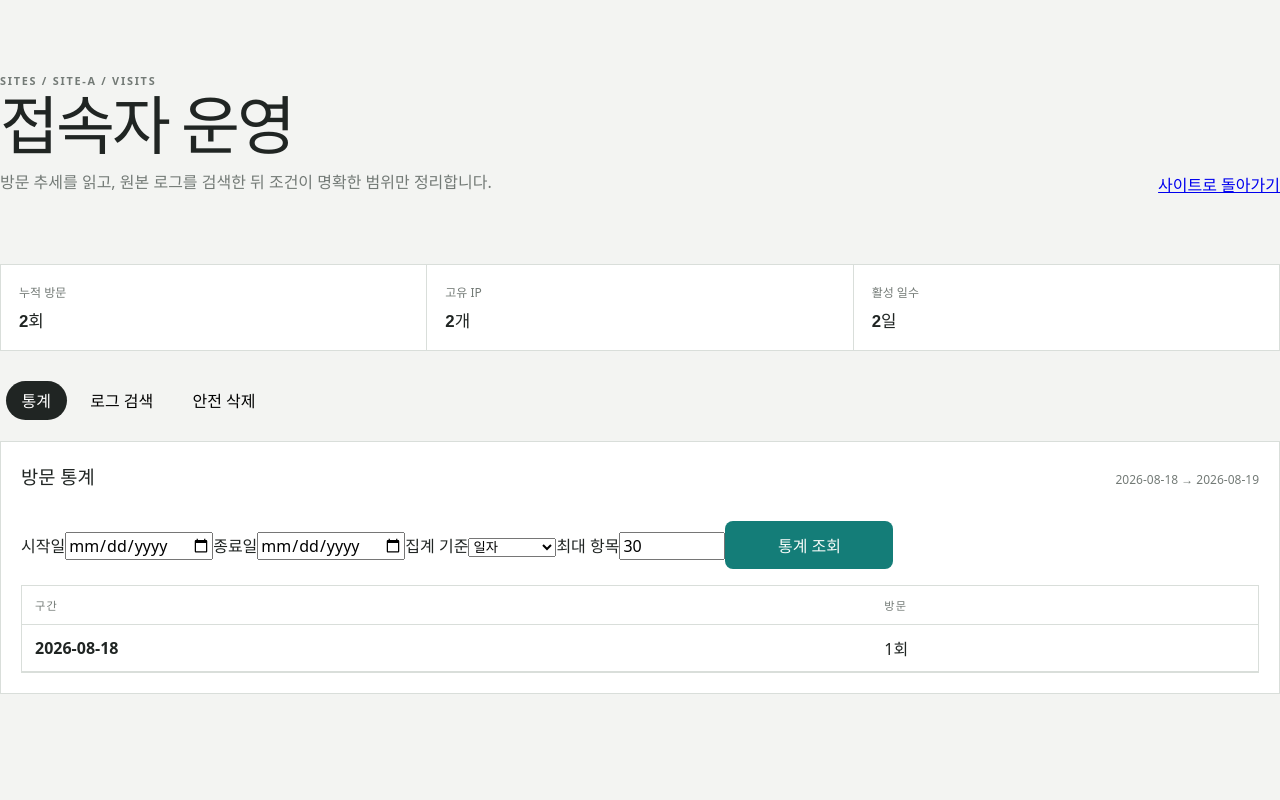
Test case: AdminVisitsPage › requires visible conditions and confirmation before destructive readback
The image size is (1280, 800).
Check: the text "2026-08-18" is shown, box [35,637,118,659]
Click the button "안전 삭제": click(224, 400) [176,381,272,420]
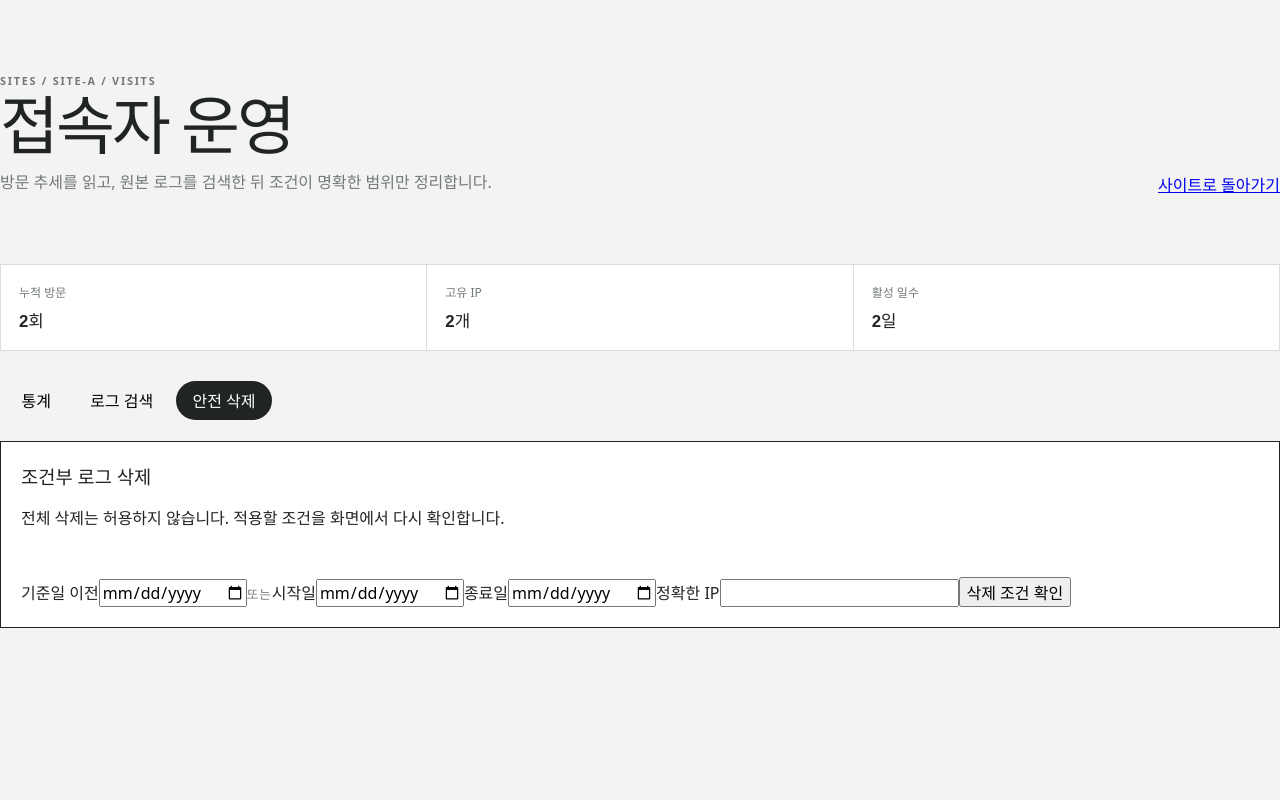
Click the button "삭제 조건 확인": click(1015, 592) [958,577,1071,607]
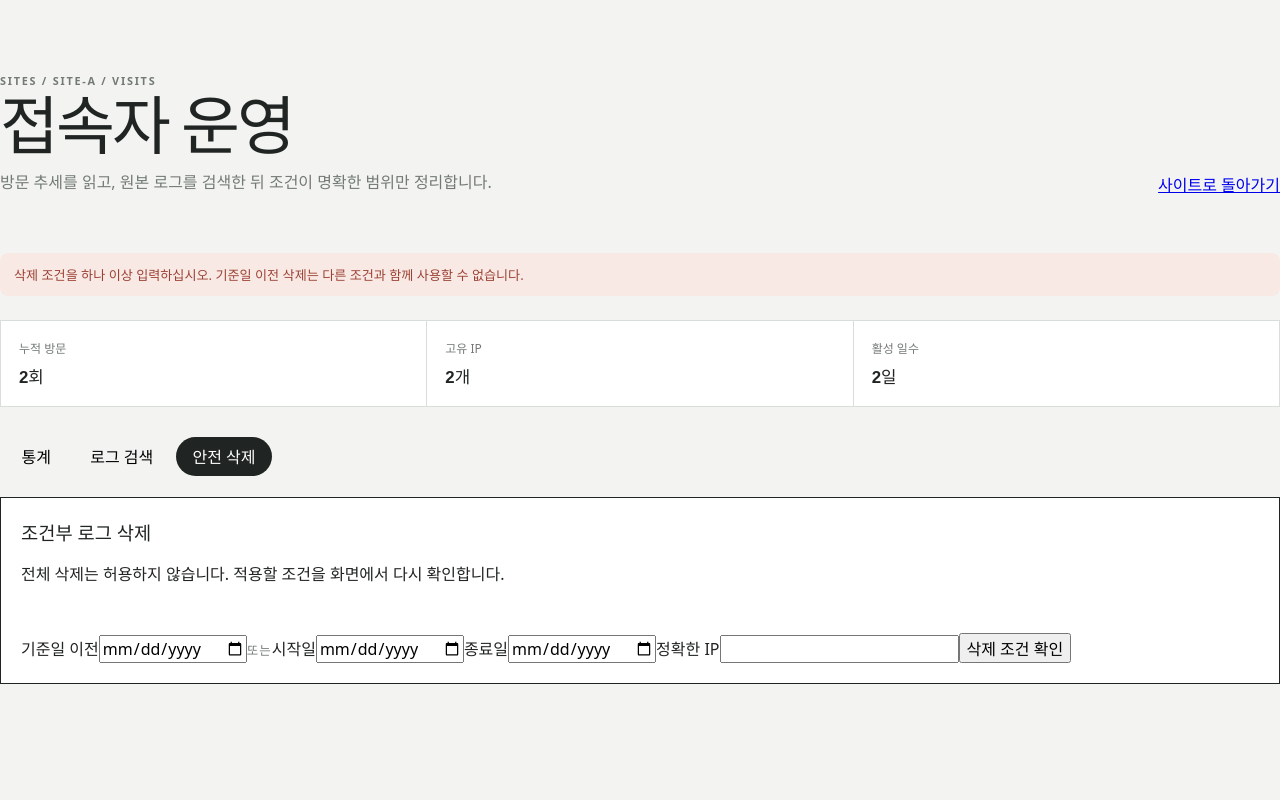
Check: the message shows "삭제 조건을 하나 이상", box [14,266,524,284]
In the date field labelled "기준일 이전": (173, 650) [99,636,247,664], type "2026-08-19"
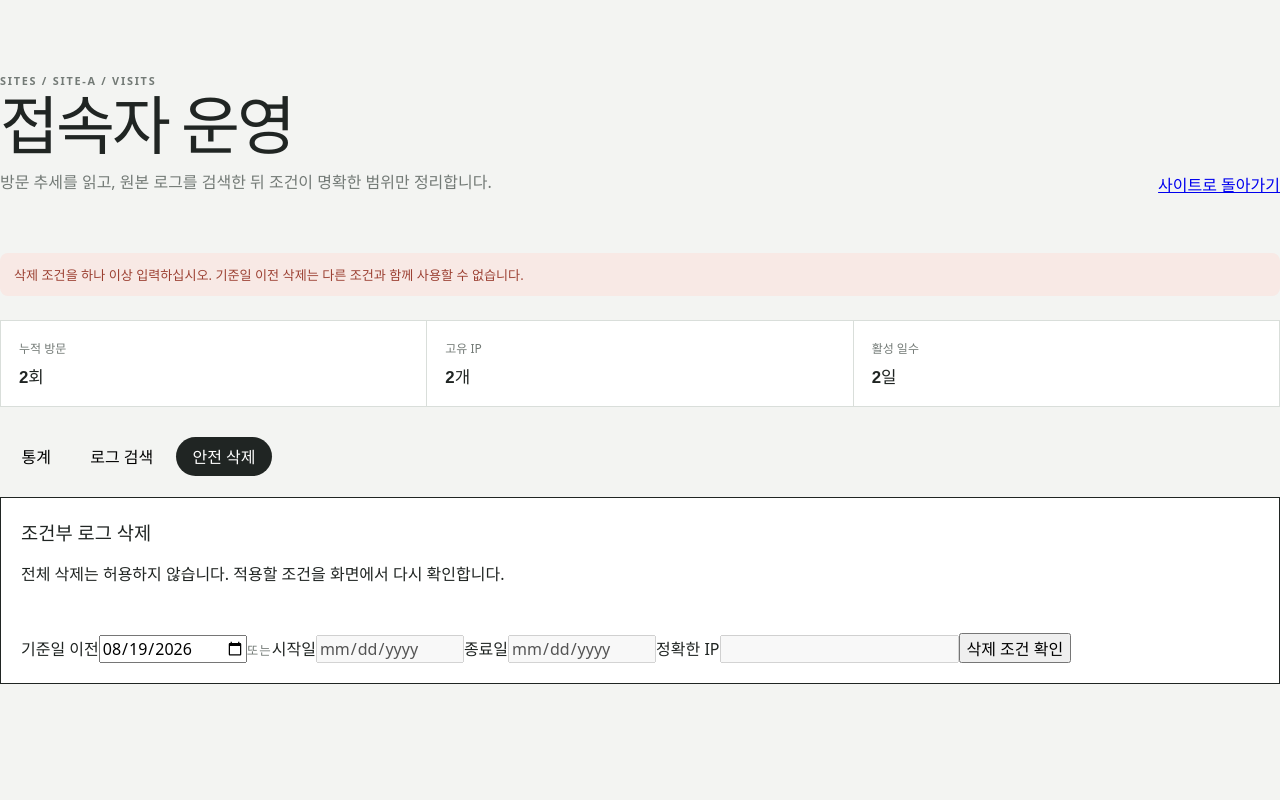
Click the button "삭제 조건 확인": click(1015, 648) [958,634,1071,664]
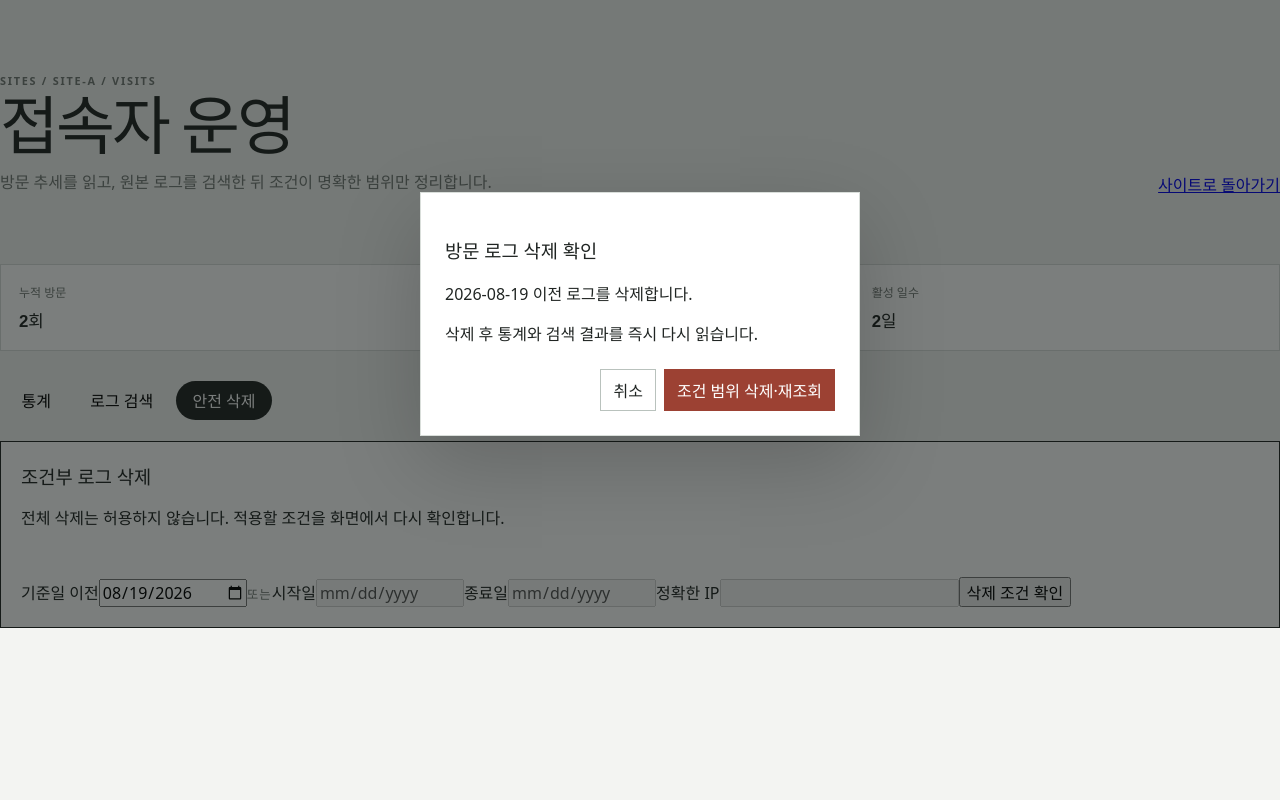
Check: the dialog "방문 로그 삭제 확인" is shown, box [420,192,860,436]
Click the button "조건 범위 삭제·재조회": click(749, 390) [664,369,835,411]
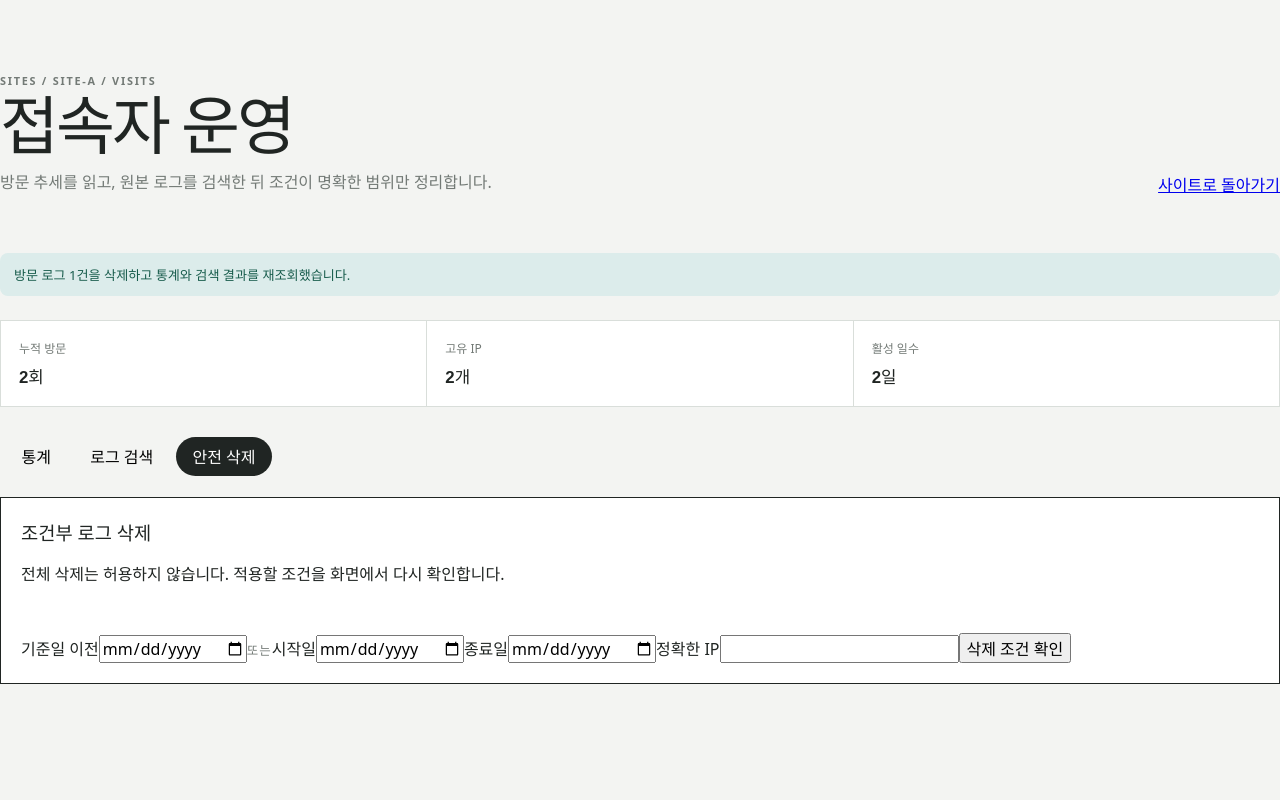
Check: the text "방문 로그 1건을 삭제하고 통계와 검색 결과를 재조회했습니다." is shown, box [0,253,1279,296]
